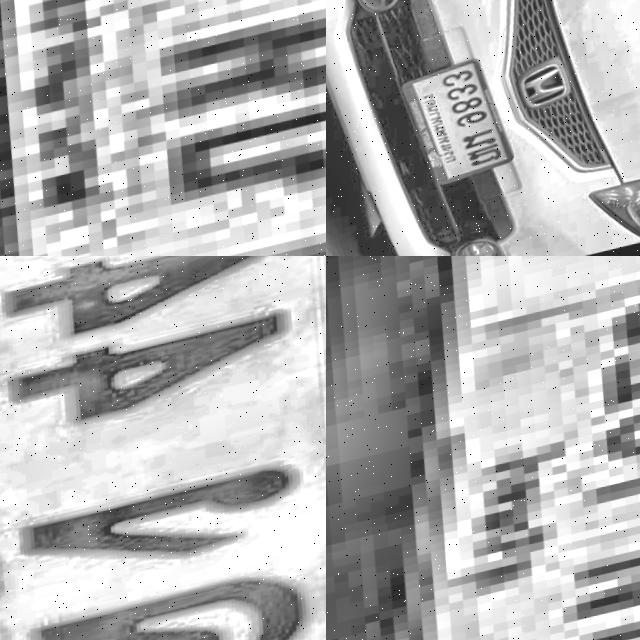license-plate: (0, 256, 326, 640), (326, 256, 640, 640), (0, 0, 326, 256), (394, 54, 533, 202)
